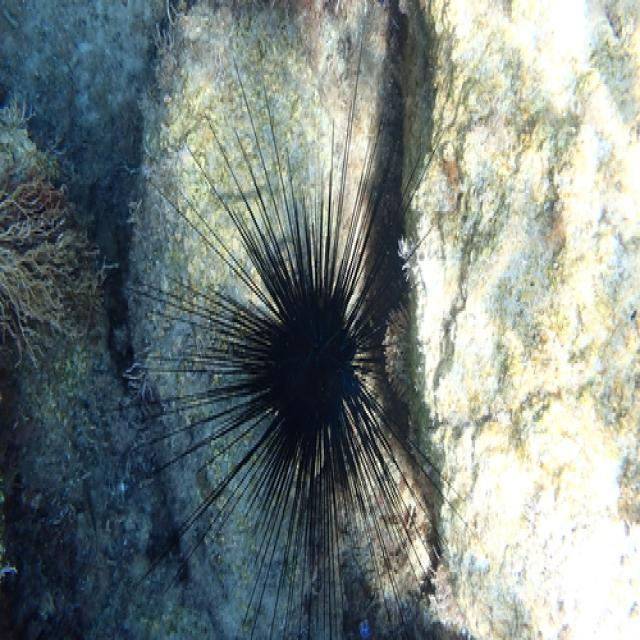Urchin: (134, 41, 473, 626)
